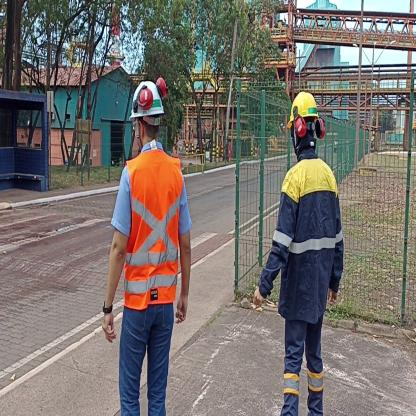Balaclava: (293, 120, 316, 156)
C_eletrica: (263, 158, 344, 321)
Capacete: (127, 78, 165, 121), (287, 92, 323, 124)
colete: (122, 152, 180, 310)
